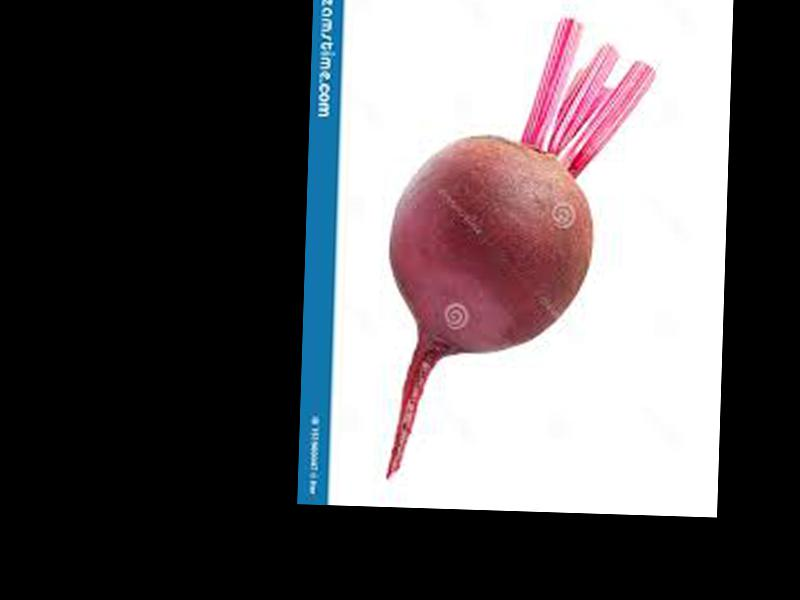Beet: (386, 14, 654, 482)
